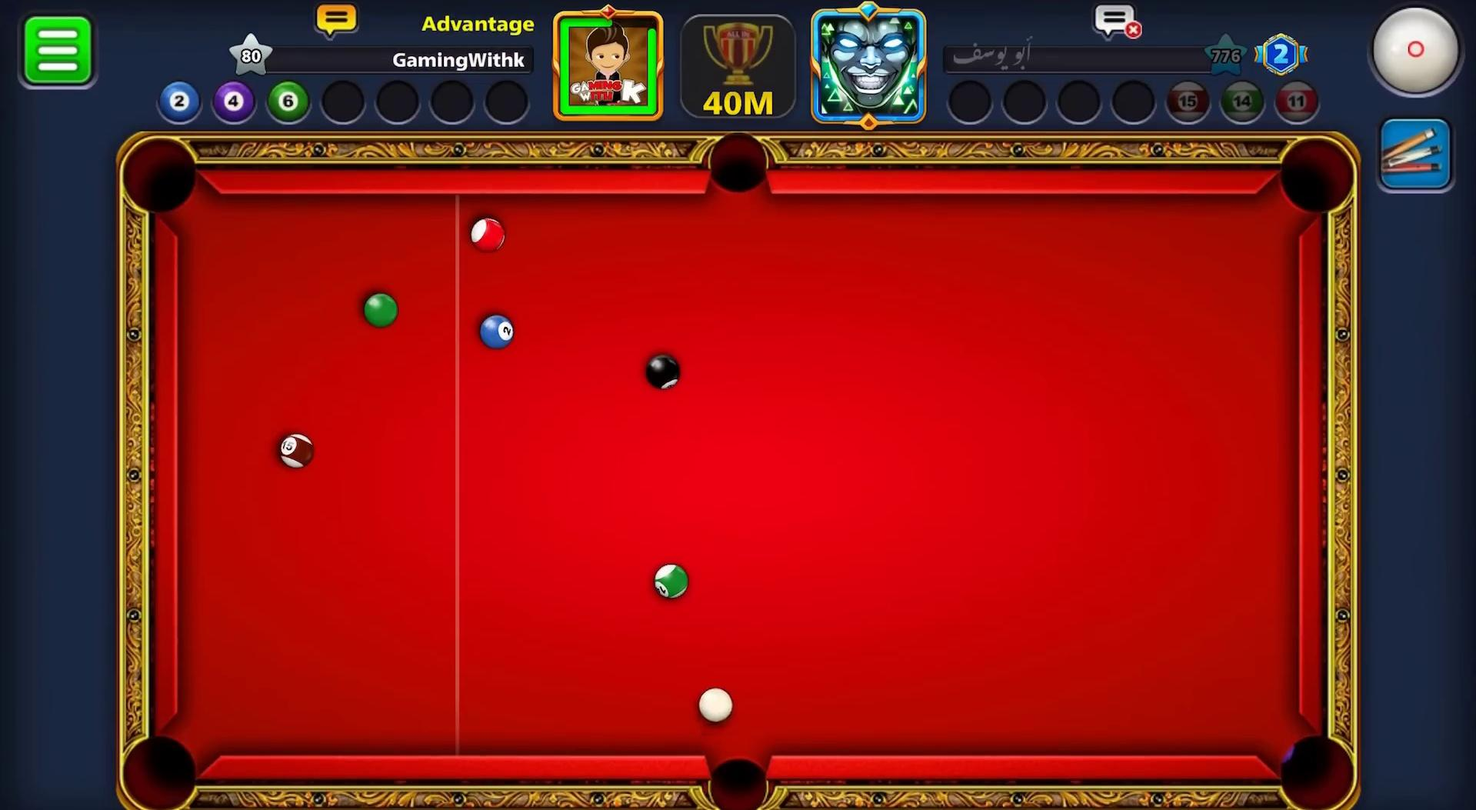Ball: (357, 275, 405, 333), (462, 209, 513, 262), (472, 304, 521, 354), (644, 558, 693, 604), (638, 347, 687, 392), (271, 426, 317, 473)
Hole: (102, 125, 222, 238), (1250, 718, 1378, 809), (686, 126, 789, 214), (1274, 135, 1358, 217), (689, 739, 786, 809), (122, 733, 198, 808)
Play_Area: (178, 192, 1294, 755)
Spin: (1364, 1, 1474, 107)
White: (683, 675, 741, 729)
